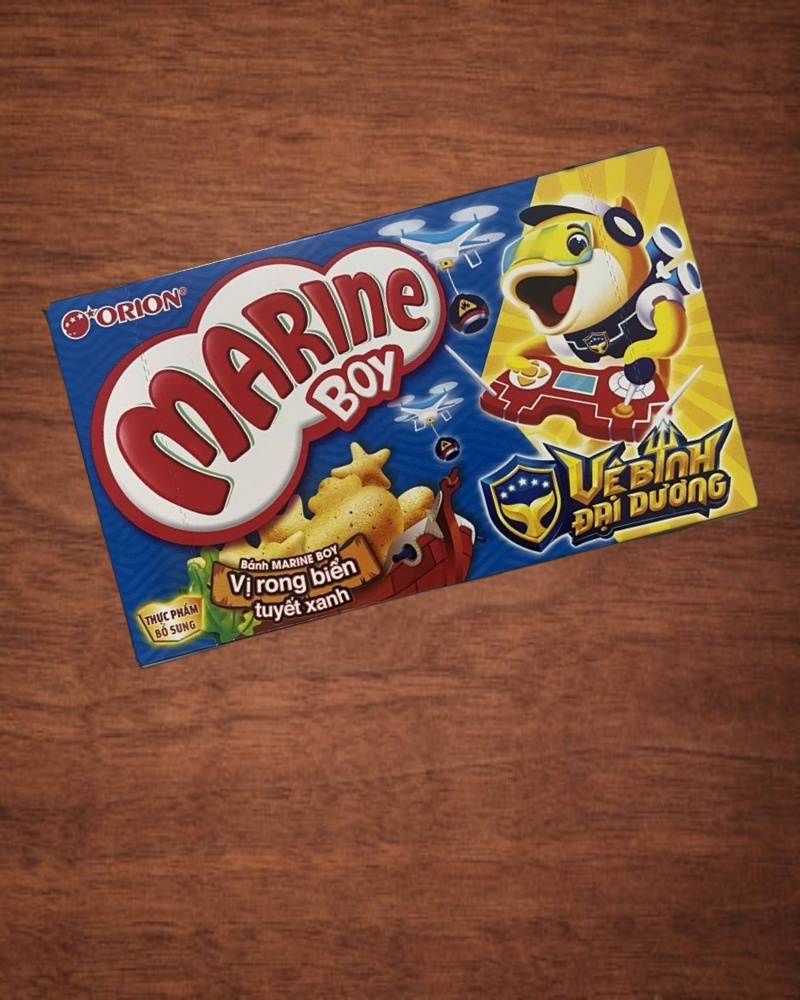Marine: (44, 138, 764, 674)
